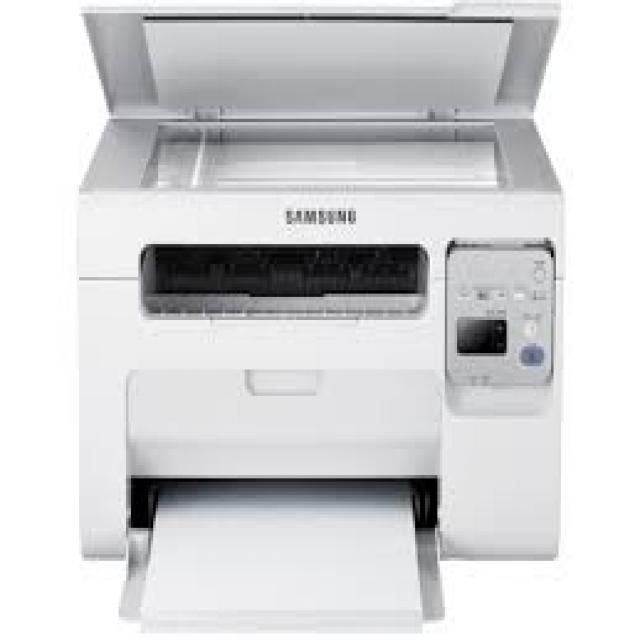printer: (74, 2, 566, 626)
